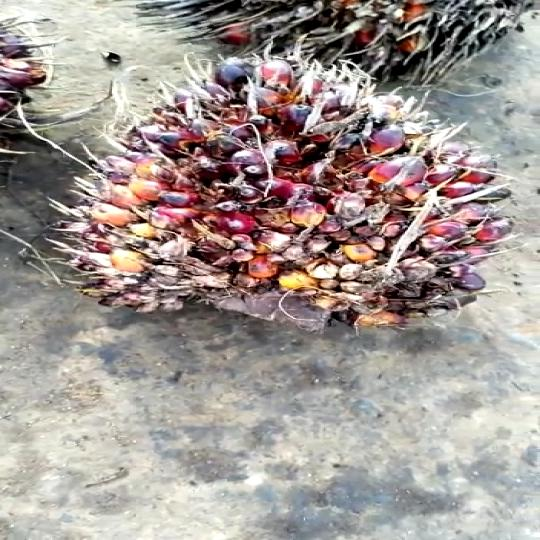masak: (63, 54, 512, 336)
